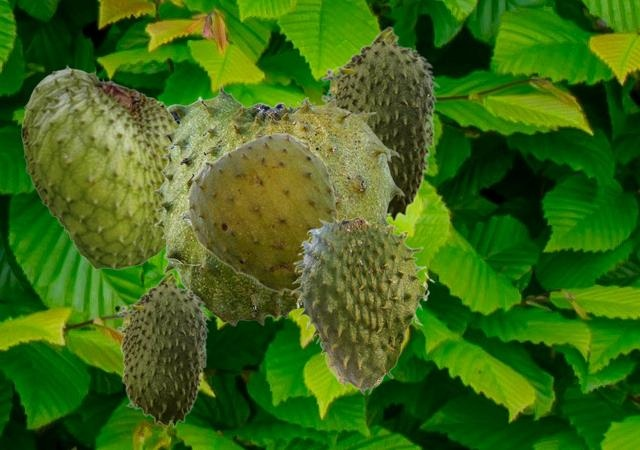guyabano: (152, 84, 404, 325), (21, 64, 178, 269), (290, 216, 434, 394), (184, 132, 338, 296), (321, 25, 439, 221), (117, 271, 210, 426)
